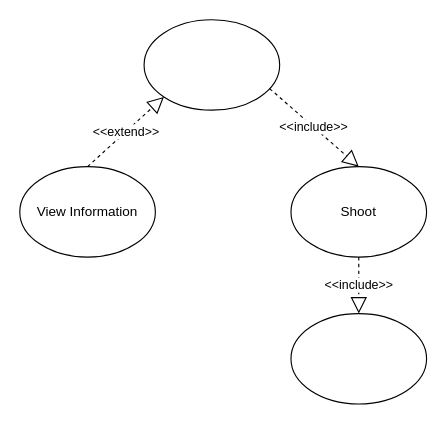
Some shapes in this 446 by 424 pixel diagram are drawn without their labels. The box of each missing label's shape, as (x1, y1, x2, y2) in pixels:
Fight: (143, 19, 280, 110)
Select Position: (290, 312, 427, 404)
